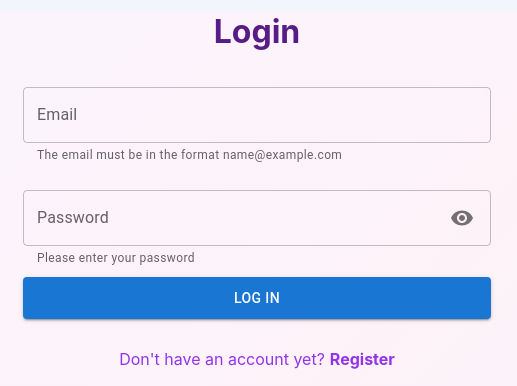
Test: LoginForm › shows validation errors when submitting empty form
The image size is (517, 386).
Click the button "Log in": click(257, 298) [23,277,491,319]
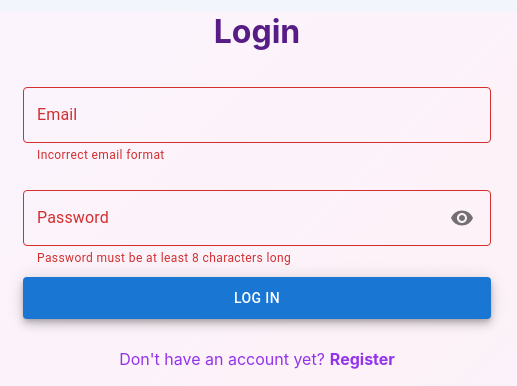
Now the text "Incorrect email format" is shown, box [37,148,165,162]
Now the text "Password must be at least 8 characters long" is shown, box [37,251,291,265]
